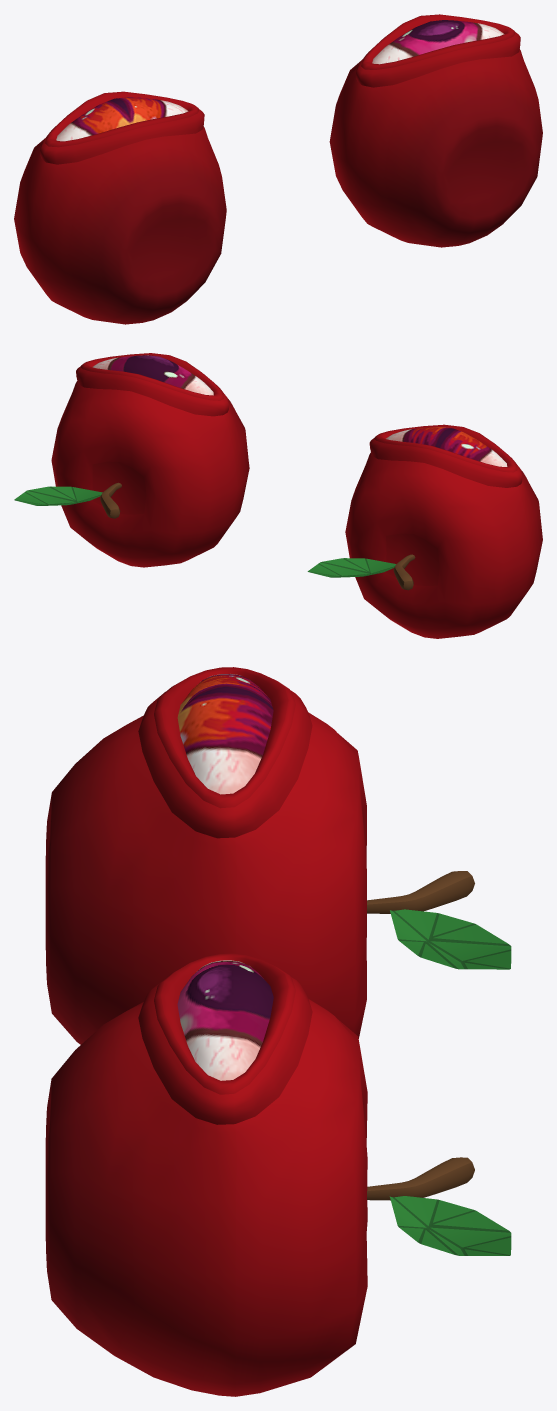
File: EyeApple_Updated.fbx
3 renders of one model, top to bottom at view 1: azimuth 30°, elevation 25°; view 2: azimuth 150°, elevation 25°; view 3: azimuth 270°, elevation 25°, orthographic. The views are drawn at different scales.
Visible parts, largest first — view 1: Cube.004, Cube; view 2: Cube.004, Cube; view 3: Cube.004, Cube.
Boxes of the visible parts, bbox=[...] form: Cube.004: bbox=[329, 14, 542, 247]; Cube: bbox=[14, 91, 226, 324]; Cube.004: bbox=[14, 353, 249, 567]; Cube: bbox=[307, 424, 542, 638]; Cube.004: bbox=[45, 953, 511, 1396]; Cube: bbox=[45, 667, 511, 1044].
Bounding box in the file's own units: 1767 × 722 × 759.
3 materials, 3 textured.
